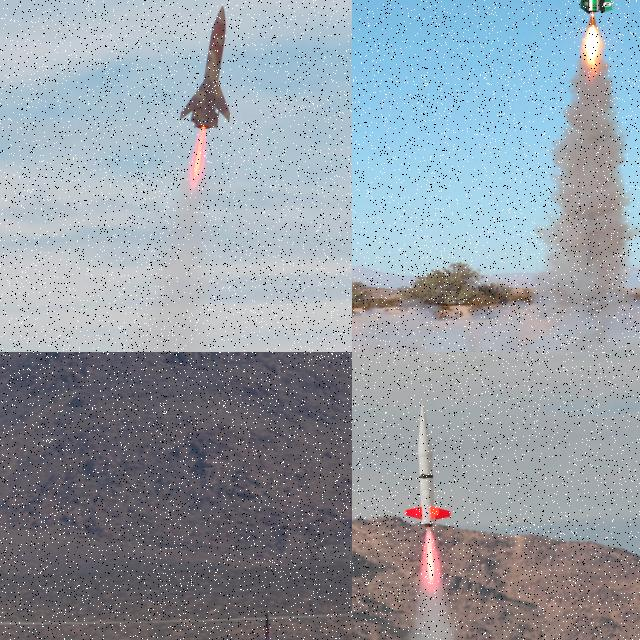Rocket: (179, 4, 234, 133), (405, 403, 452, 529), (259, 610, 272, 640)
